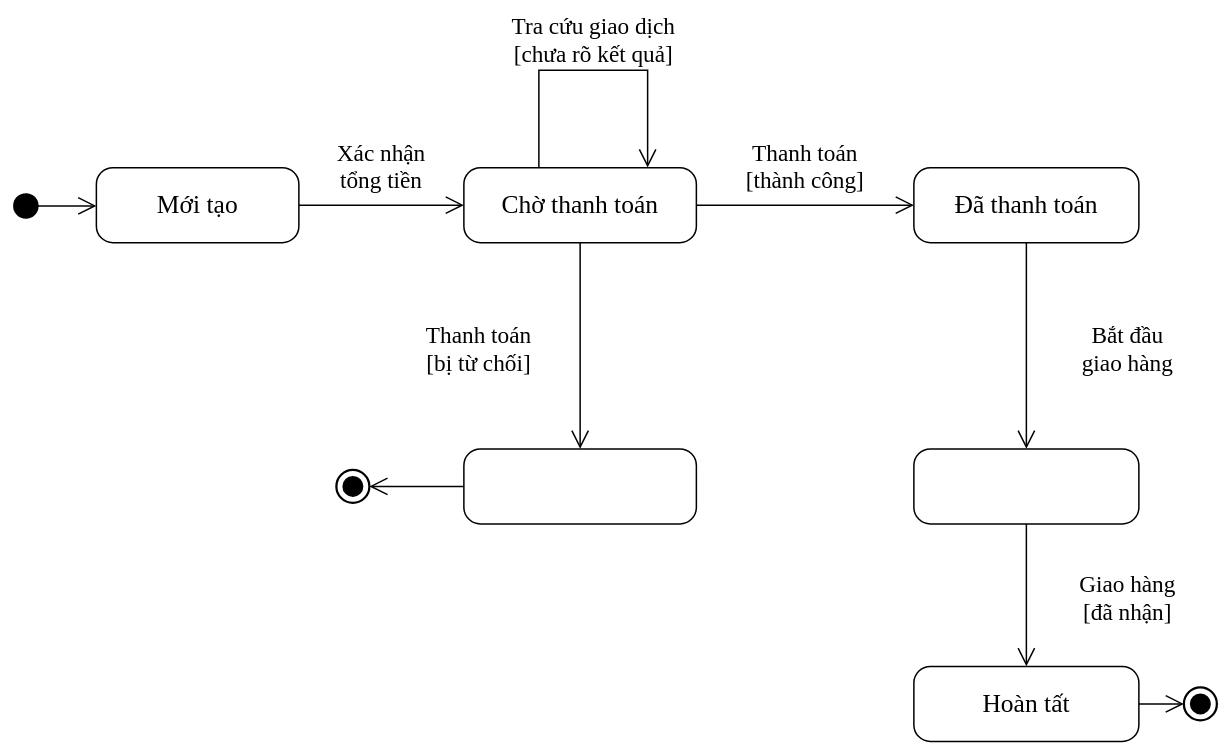
Some shapes in this 1231 by 755 pixel diagram are drawn without their labels. Here are the shapes that lost their labels. From the top down, the centre of each, then its label:
At (x=580, y=486): "Bị hủy".
At (x=1026, y=486): "Đang giao".
